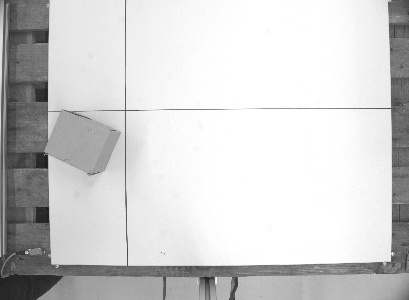b5: (40, 108, 122, 177)
